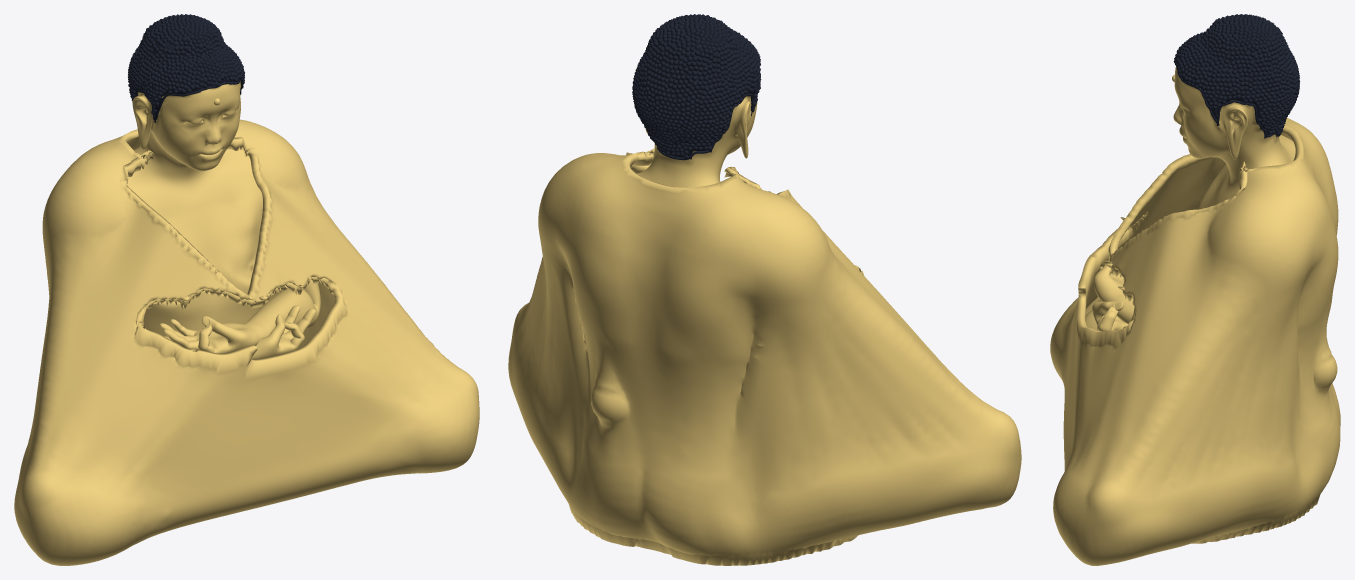
File: amida_wip.glb
The picture shows the model from 3 angles, left to right: view 1: azimuth 30°, elevation 25°; view 2: azimuth 150°, elevation 25°; view 3: azimuth 270°, elevation 25°; orthographic projection. The views are drawn at different scales.
Visible parts, largest first — view 1: Amida_Robe, Amida_Body, Amida_Hair; view 2: Amida_Robe, Amida_Hair, Amida_Body; view 3: Amida_Robe, Amida_Body, Amida_Hair, Amida_HairRim.
Boxes of the visible parts, x1=… form: Amida_Robe: x1=14, y1=119, x2=479, y2=565; Amida_Body: x1=127, y1=16, x2=320, y2=359; Amida_Hair: x1=128, y1=14, x2=244, y2=114; Amida_Robe: x1=508, y1=148, x2=1021, y2=565; Amida_Hair: x1=632, y1=14, x2=761, y2=159; Amida_Body: x1=636, y1=19, x2=758, y2=187; Amida_Robe: x1=1050, y1=118, x2=1340, y2=565; Amida_Body: x1=1085, y1=19, x2=1295, y2=331; Amida_Hair: x1=1173, y1=14, x2=1299, y2=135; Amida_HairRim: x1=1175, y1=63, x2=1281, y2=137.
Size of the model in its own units: 0.8765 by 0.8478 by 0.4808.
